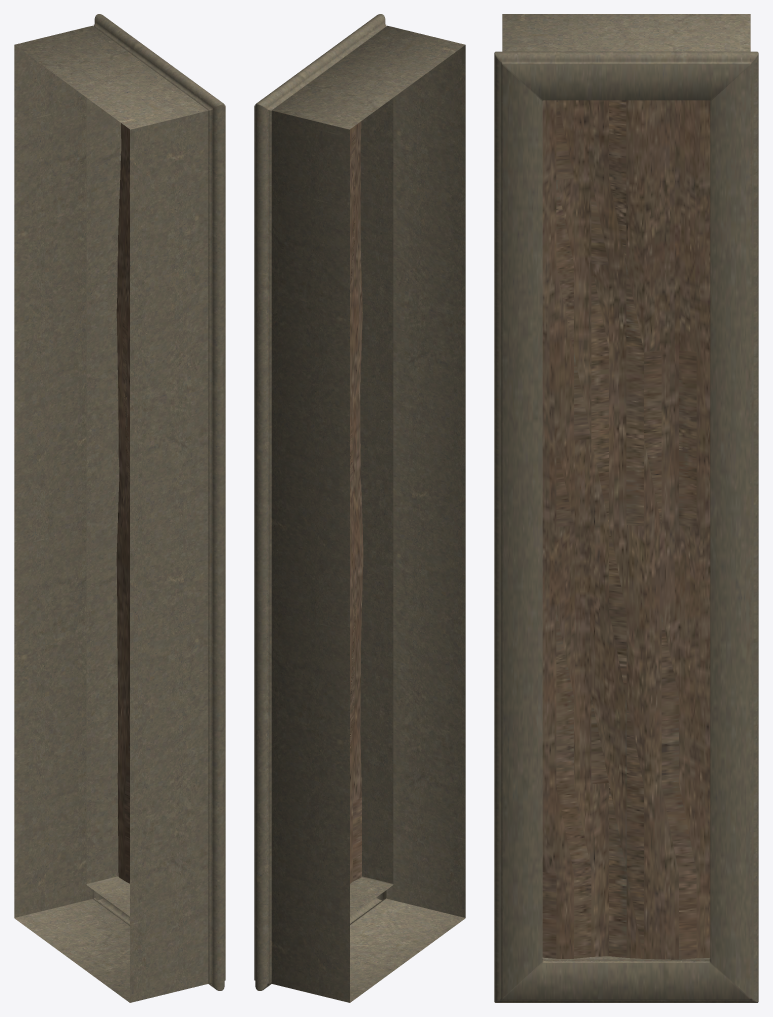
The model's file is cP_GardenIslands01_Straight.dae.
3 views of the same model, side by side, from view 1: azimuth 30°, elevation 25°; view 2: azimuth 150°, elevation 25°; view 3: azimuth 270°, elevation 25° (orthographic). The views are drawn at different scales.
Visible parts, largest first — view 1: cP_GardenIslands01_Straight.001; view 2: cP_GardenIslands01_Straight.001; view 3: cP_GardenIslands01_Straight.001.
Boxes of the visible parts, x1,y1,x2,y2 form: cP_GardenIslands01_Straight.001: (14,14,225,1002); cP_GardenIslands01_Straight.001: (254,14,465,1002); cP_GardenIslands01_Straight.001: (494,14,758,1002).
Bounding box in the file's own units: 0.948 × 2.12 × 8.39.
